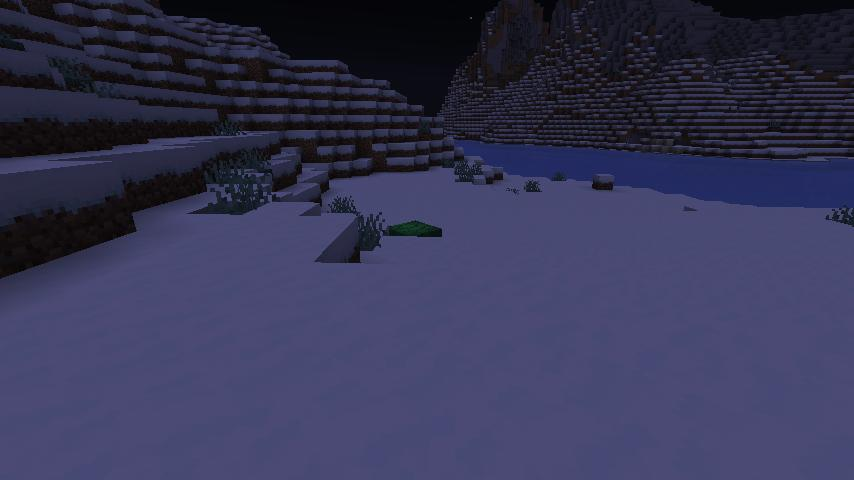turtle: (381, 219, 444, 237)
